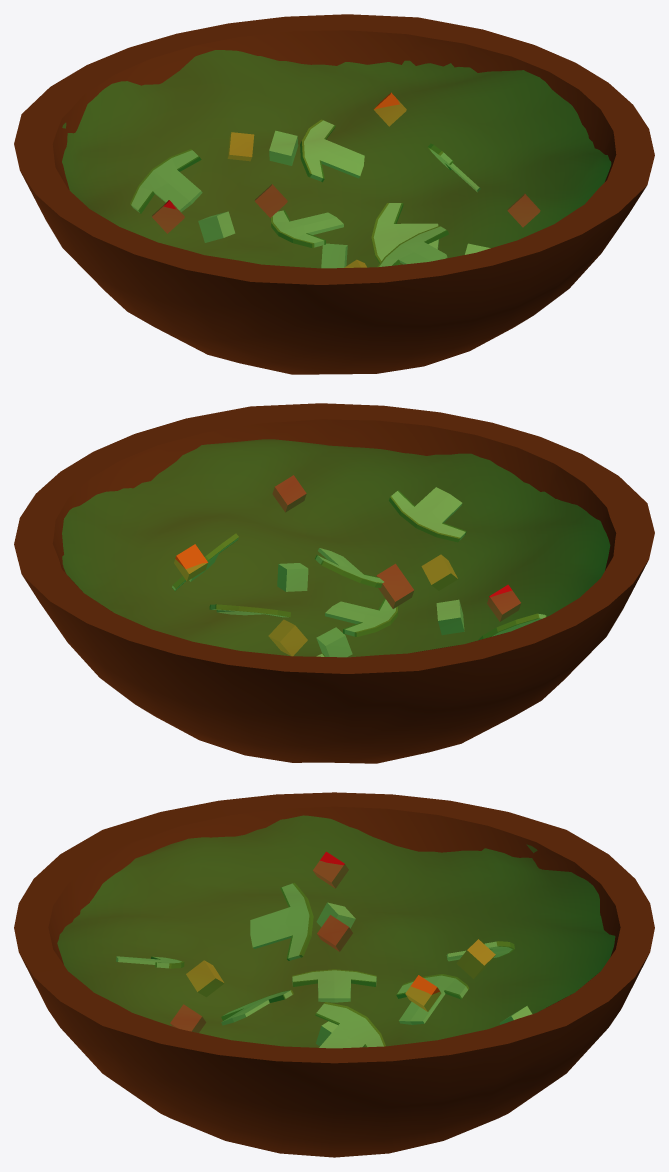
Rendered from slimy mushroom soup.fbx.
The picture shows the model from 3 angles, top to bottom: view 1: azimuth 30°, elevation 25°; view 2: azimuth 150°, elevation 25°; view 3: azimuth 270°, elevation 25°; orthographic projection.
Visible parts, largest first — view 1: slimy mushroom soup; view 2: slimy mushroom soup; view 3: slimy mushroom soup.
Boxes of the visible parts, x1=… form: slimy mushroom soup: x1=14, y1=14, x2=654, y2=374; slimy mushroom soup: x1=14, y1=403, x2=654, y2=763; slimy mushroom soup: x1=14, y1=792, x2=654, y2=1157.
Bounding box in the file's own units: 28.74 × 8.97 × 28.74.
